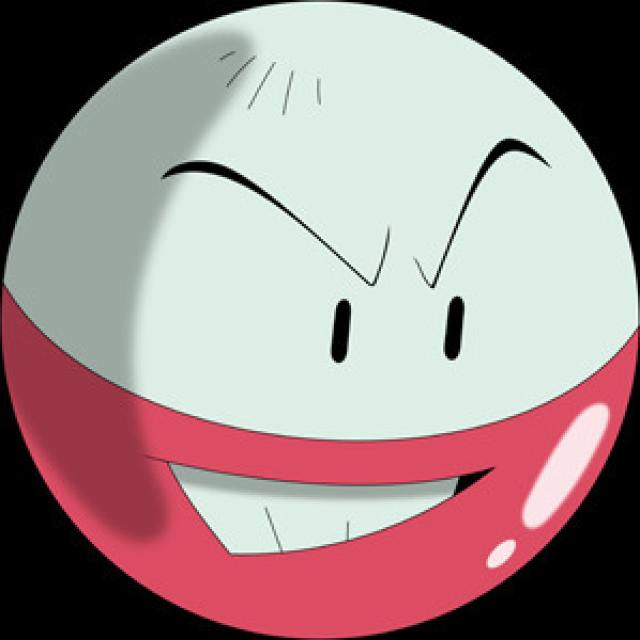Electrode: (7, 0, 640, 631)
